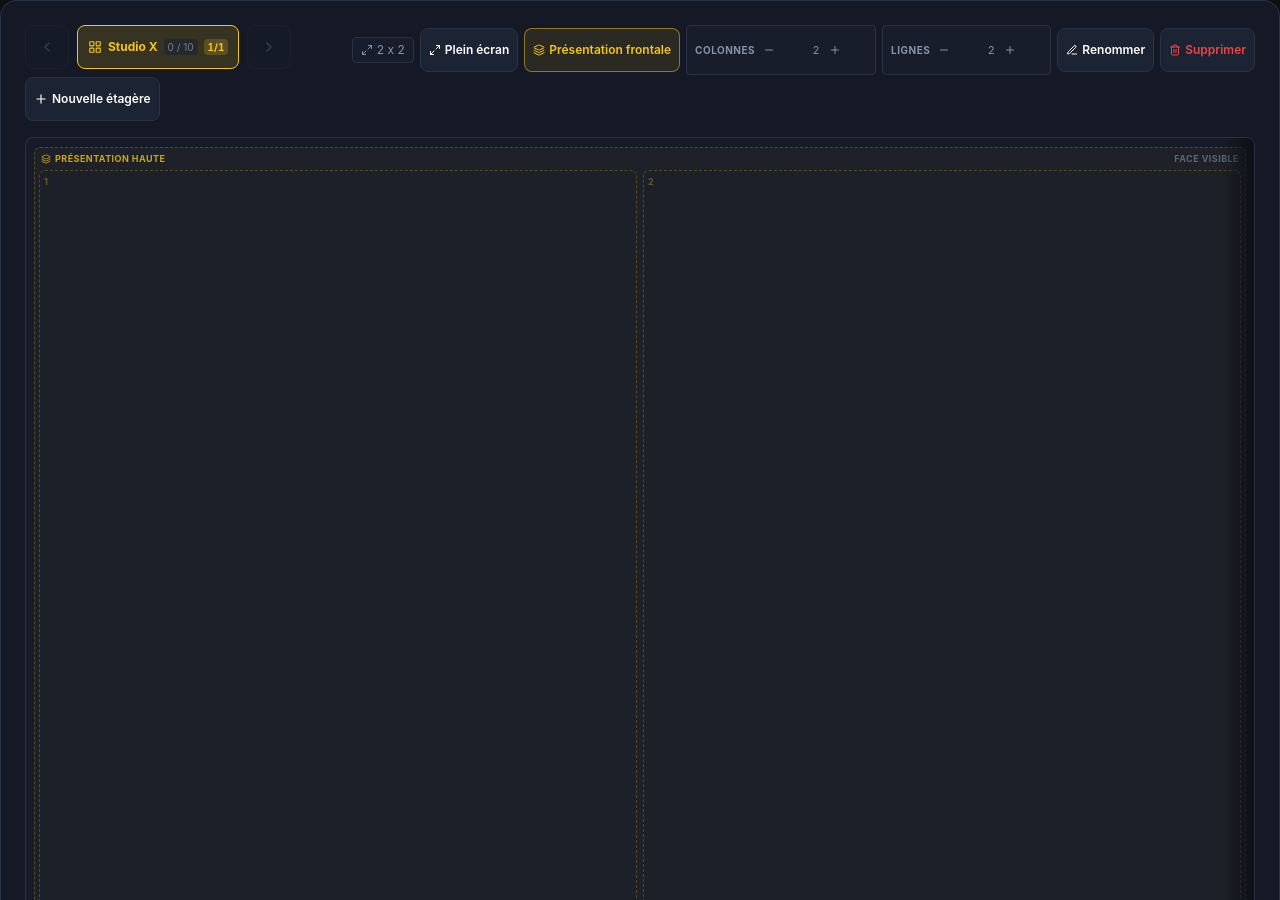
ShelfLayoutEditor › toasts when resizing fails
Step 1. Click the button named "Ajouter une ligne" → (1024, 50), box [1002,28,1046,72]
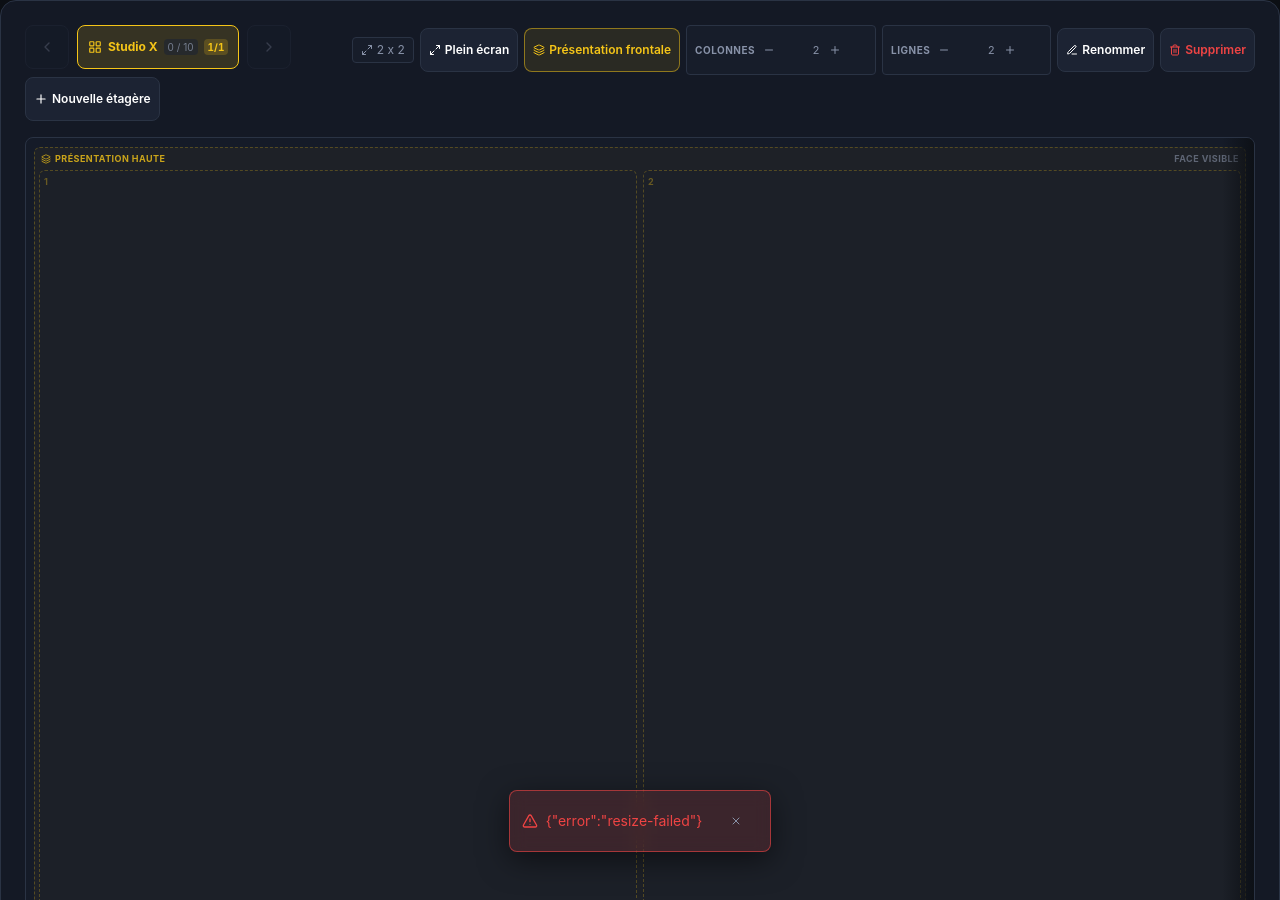
Now the text "resize-failed" is shown, box [546,812,702,829]
